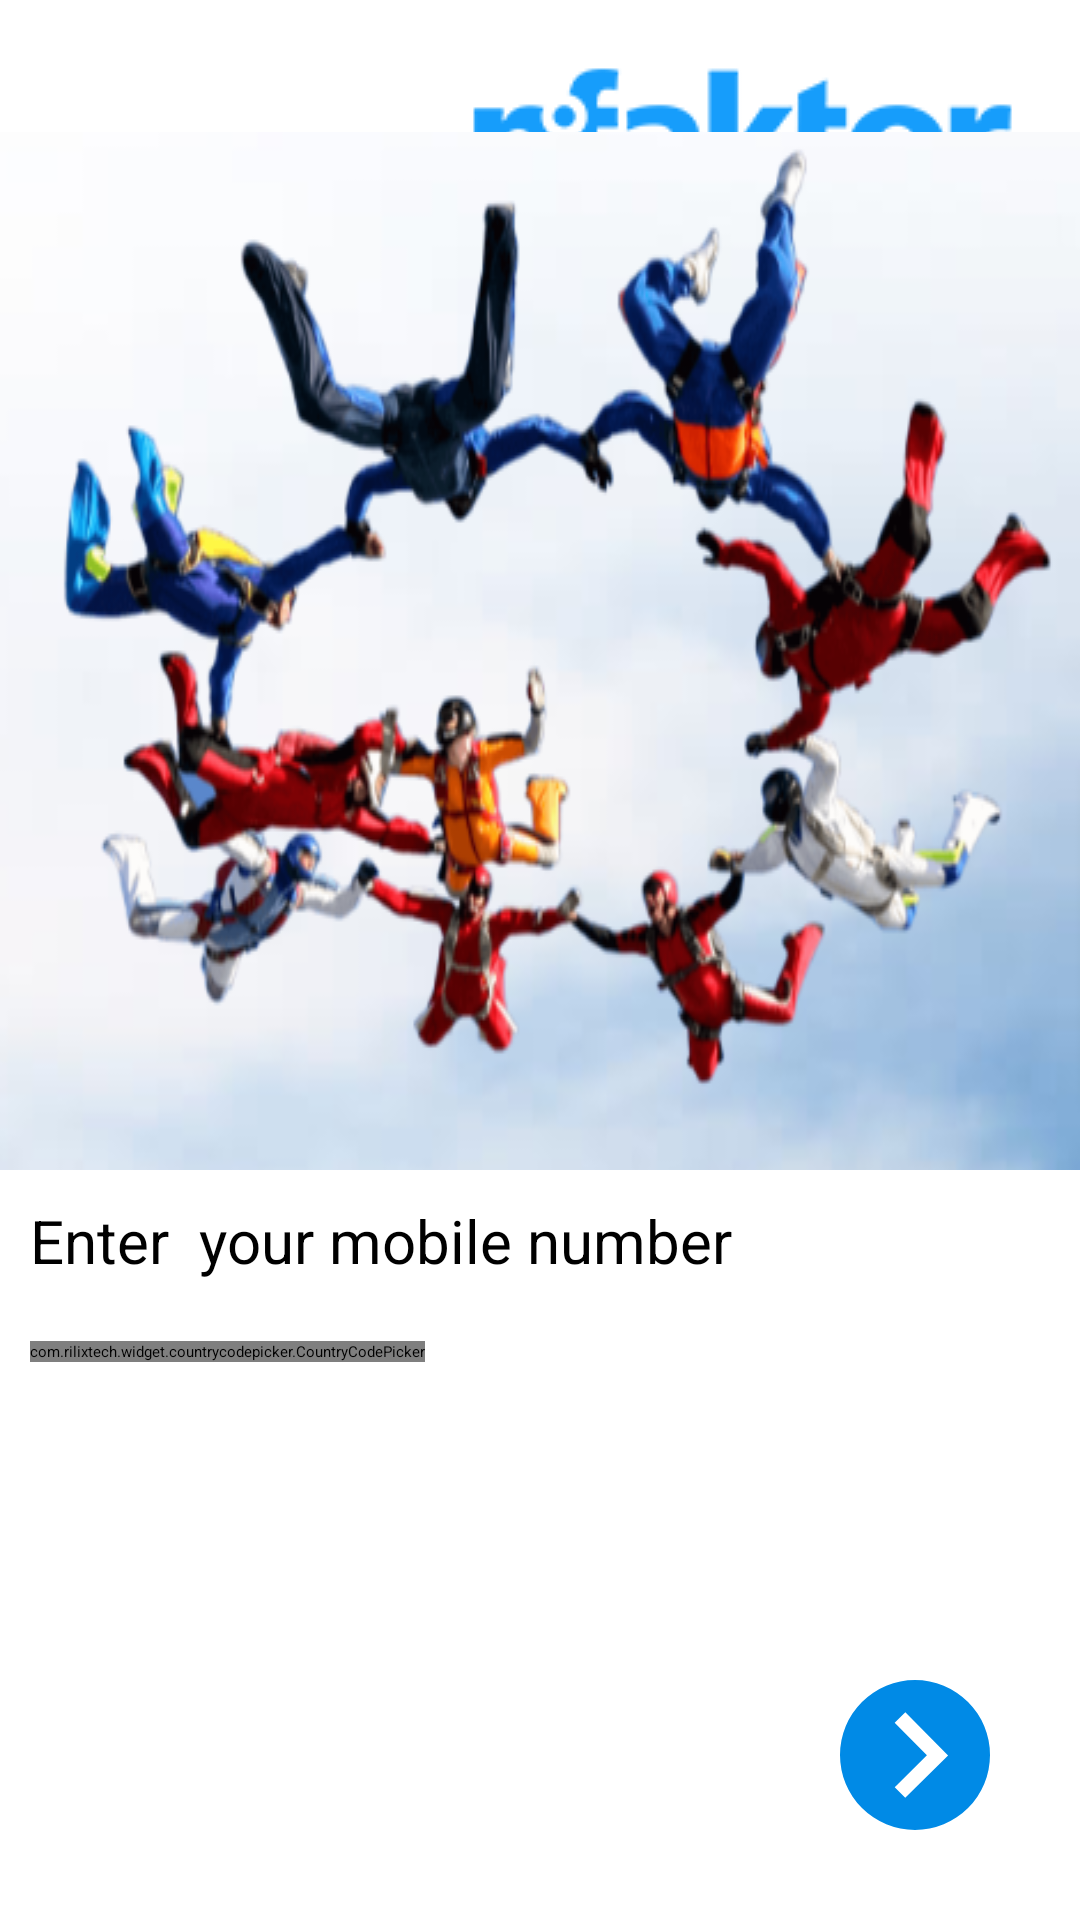

Icons on this 1080 x 1920 Android screen, each with the point to tap as (x,y):
next: (915,1755)
